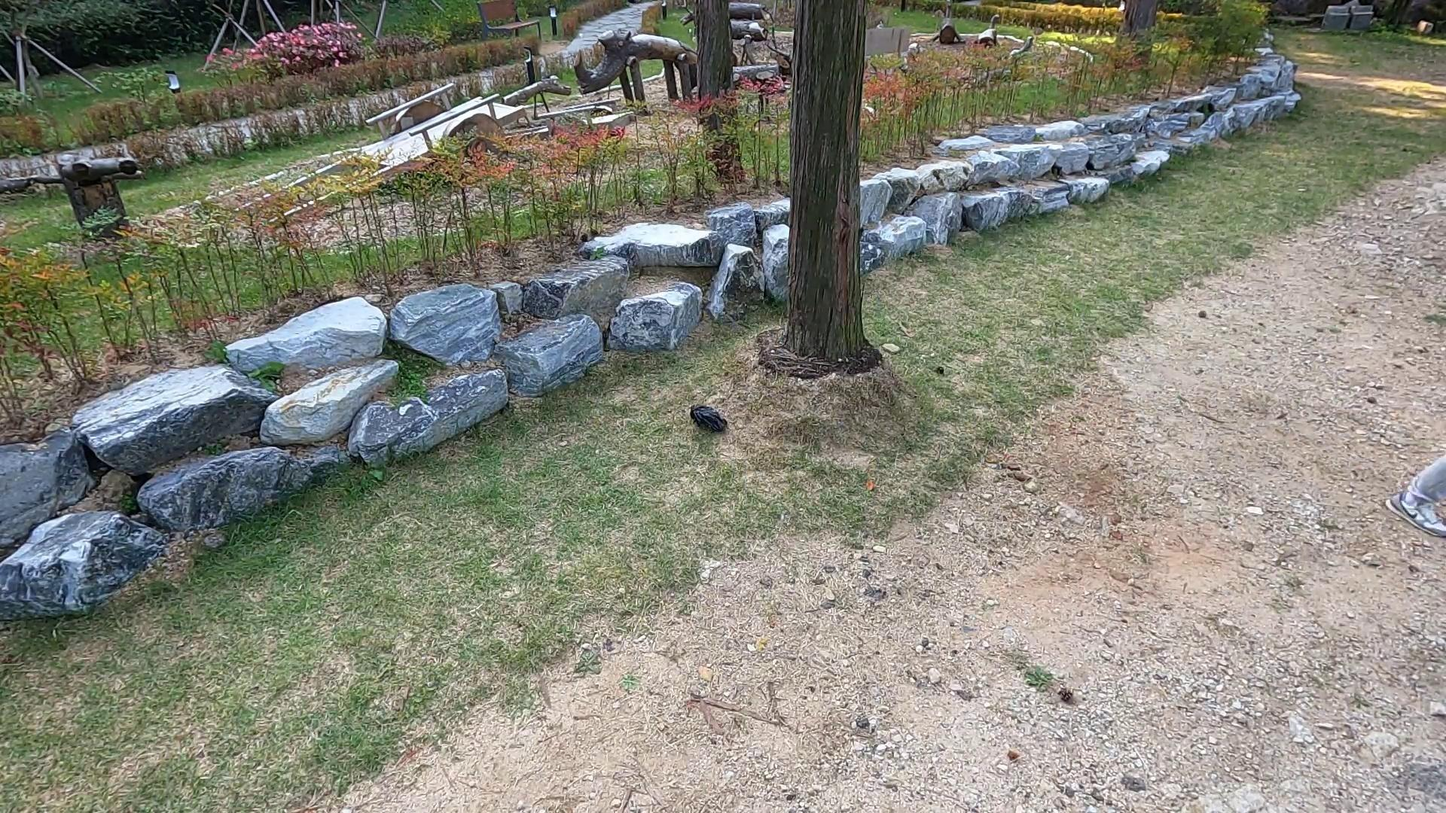trash: (687, 399, 731, 438)
